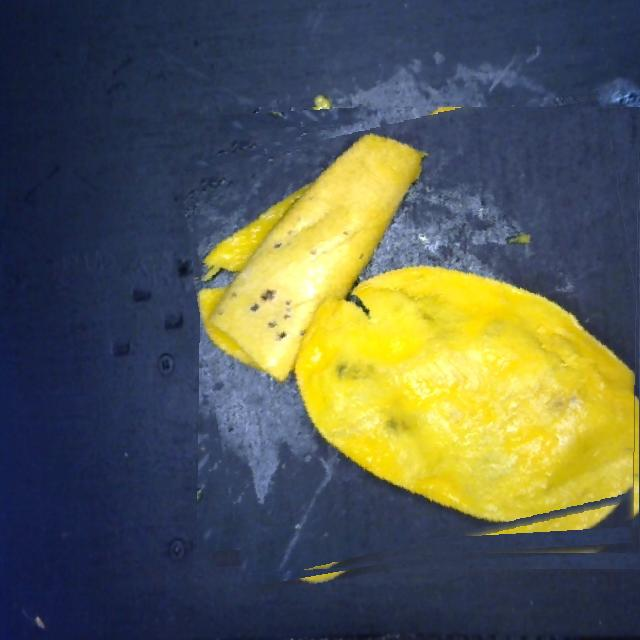biodegradable: (193, 107, 640, 577)
